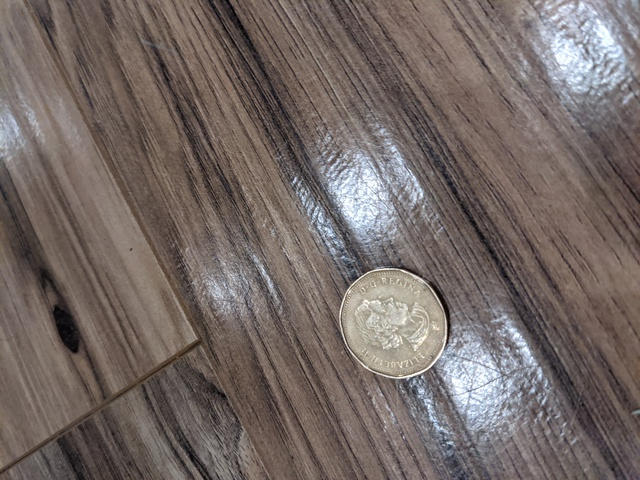loonie: (320, 251, 463, 392)
